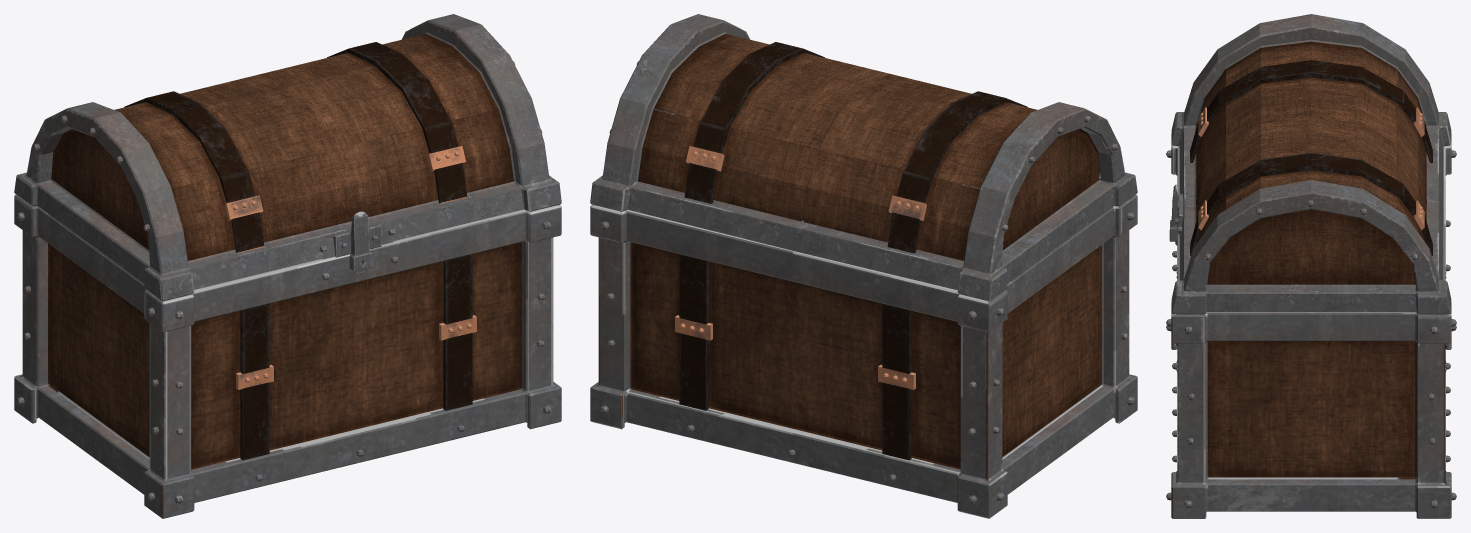
3 renders of one model, left to right at view 1: azimuth 30°, elevation 25°; view 2: azimuth 150°, elevation 25°; view 3: azimuth 270°, elevation 25°, orthographic. The views are drawn at different scales.
Parts seen in each view (by area): view 1: 柱体.001, 柱体.004, 柱体.002, 柱体.005, 立方体.001, 立方体.023; view 2: 柱体.001, 柱体.004, 柱体.002, 柱体.005, 立方体.023; view 3: 柱体.004, 柱体.001, 柱体.002, 立方体.023, 柱体.005, 立方体.001.
Part boxes in pixels (bbox=[...]): 柱体.001: bbox=[14, 194, 561, 518]; 柱体.004: bbox=[14, 14, 561, 301]; 柱体.002: bbox=[124, 42, 472, 460]; 柱体.005: bbox=[225, 146, 476, 389]; 立方体.001: bbox=[333, 211, 381, 271]; 立方体.023: bbox=[17, 61, 551, 503]; 柱体.001: bbox=[590, 194, 1137, 518]; 柱体.004: bbox=[590, 14, 1137, 301]; 柱体.002: bbox=[679, 42, 1027, 460]; 柱体.005: bbox=[675, 146, 926, 389]; 立方体.023: bbox=[600, 61, 1134, 503]; 柱体.004: bbox=[1171, 14, 1451, 314]; 柱体.001: bbox=[1171, 134, 1451, 518]; 柱体.002: bbox=[1190, 60, 1432, 255]; 立方体.023: bbox=[1166, 150, 1456, 508]; 柱体.005: bbox=[1198, 107, 1424, 229]; 立方体.001: bbox=[1169, 184, 1183, 241].
Bounding box in the file's own units: 333 × 267 × 217.
Materials: 2 (2 with a texture image).
